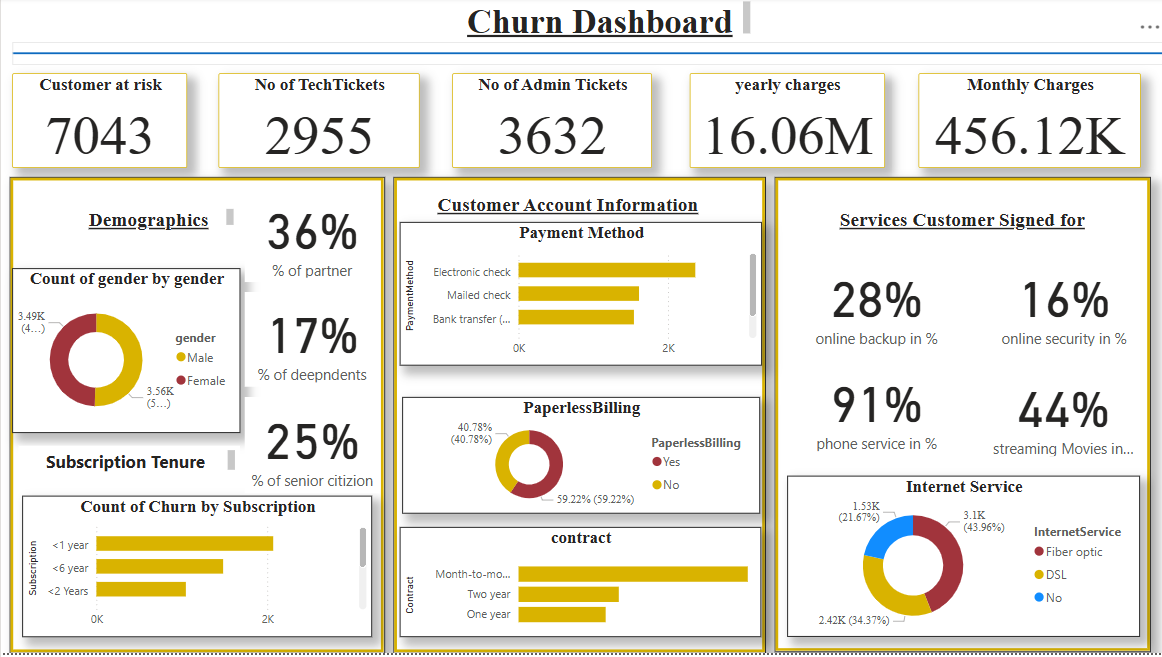

The dashboard page shown, as its layout file describes it:
{"tool":"powerbi","page":{"name":"Page 2","canvas":[1280,720],"ordinal":1},"visuals":[{"type":"textbox","box":[495.4,0,332.1,49.4],"z":0},{"type":"card","title":"Customer at risk","fields":{"Values":["Count(01 Churn-Dataset.customerID)"]},"box":[12.3,83.7,192.1,104.3],"z":1000},{"type":"card","title":"Monthly Charges","fields":{"Values":["Sum(01 Churn-Dataset.MonthlyCharges)"]},"box":[1007.2,83.7,244.3,104.3],"z":2000},{"type":"card","title":"yearly charges","fields":{"Values":["Sum(01 Churn-Dataset.TotalCharges)"]},"box":[756.1,83.7,214.1,104.3],"z":3000},{"type":"card","title":"No of Admin Tickets","fields":{"Values":["Sum(01 Churn-Dataset.numAdminTickets)"]},"box":[495.4,83.7,219.6,104.3],"z":4000},{"type":"card","title":"No of TechTickets","fields":{"Values":["Sum(01 Churn-Dataset.numTechTickets)"]},"box":[238.8,83.7,220.9,104.3],"z":5000},{"type":"shape","box":[9.6,197.6,411.7,522.8],"z":6000},{"type":"shape","box":[430.9,197.6,408.9,522.8],"z":7000},{"type":"shape","box":[849.4,197.6,413,521.4],"z":8000},{"type":"textbox","box":[71.4,227.8,189.4,37],"z":9000},{"type":"textbox","box":[469.3,211.3,306,35.7],"z":10000},{"type":"textbox","box":[879.6,227.9,351.3,37],"z":11000},{"type":"donutChart","fields":{"Category":["01 Churn-Dataset.gender"],"Y":["CountNonNull(01 Churn-Dataset.gender)"]},"box":[12,297.9,250,181.1],"z":12000},{"type":"textbox","box":[19.2,492.7,242.9,32.9],"z":13000},{"type":"barChart","fields":{"Category":["01 Churn-Dataset.Subscription"],"Y":["CountNonNull(01 Churn-Dataset.Churn)"]},"box":[23.3,547.5,384.2,155.1],"z":14000},{"type":"card","fields":{"Values":["01 Churn-Dataset.% of senior citizion"]},"box":[267.6,439.2,148.2,105.7],"z":15000},{"type":"card","fields":{"Values":["01 Churn-Dataset.% of partner"]},"box":[267.6,211.3,148.2,101.5],"z":16000},{"type":"card","fields":{"Values":["01 Churn-Dataset.% of deepndents"]},"box":[267.6,323.9,148.2,104.3],"z":17000},{"type":"barChart","title":" Payment Method","fields":{"Category":["01 Churn-Dataset.PaymentMethod"],"Y":["CountNonNull(01 Churn-Dataset.PaymentMethod)"]},"box":[437.7,247,397.9,157.8],"z":18000},{"type":"donutChart","title":" PaperlessBilling","fields":{"Category":["01 Churn-Dataset.PaperlessBilling"],"Y":["CountNonNull(01 Churn-Dataset.PaperlessBilling)"]},"box":[440.5,439.2,392.5,127.6],"z":19000},{"type":"barChart","title":"contract","fields":{"Category":["01 Churn-Dataset.Contract"],"Y":["CountNonNull(01 Churn-Dataset.Contract)"]},"box":[437.7,581.8,396.6,120.8],"z":20000},{"type":"donutChart","title":" Internet Service","fields":{"Category":["01 Churn-Dataset.InternetService"],"Y":["CountNonNull(01 Churn-Dataset.InternetService)"]},"box":[863.1,525.6,387,177],"z":21000},{"type":"card","fields":{"Values":["01 Churn-Dataset.online backup in %"]},"box":[871.4,284,179.8,104.3],"z":22000},{"type":"card","fields":{"Values":["01 Churn-Dataset.online security in %"]},"box":[1082.7,284,168.8,104.3],"z":23000},{"type":"card","fields":{"Values":["01 Churn-Dataset.phone service in %"]},"box":[871.4,399.3,179.8,104.3],"z":24000},{"type":"card","fields":{"Values":["01 Churn-Dataset.streaming Movies in %"]},"box":[1082.7,404.8,167.4,104.3],"z":25000},{"type":"shape","box":[12.3,49.4,1266.6,24.7],"z":26000}]}

Visuals, with their boxes in screenshot pixels (x1, y1, x2, y2), scaled from the page's 1280x720 canvas onto the 1162x657 screenshot:
textbox: <region>450, 0, 751, 45</region>
"Customer at risk" card: <region>11, 76, 186, 172</region>
"Monthly Charges" card: <region>914, 76, 1136, 172</region>
"yearly charges" card: <region>686, 76, 881, 172</region>
"No of Admin Tickets" card: <region>450, 76, 649, 172</region>
"No of TechTickets" card: <region>217, 76, 417, 172</region>
shape: <region>9, 180, 382, 656</region>
shape: <region>391, 180, 762, 656</region>
shape: <region>771, 180, 1146, 656</region>
textbox: <region>65, 208, 237, 242</region>
textbox: <region>426, 193, 704, 225</region>
textbox: <region>799, 208, 1117, 242</region>
donutChart - 01 Churn-Dataset.gender x CountNonNull(01 Churn-Dataset.gender): <region>11, 272, 238, 437</region>
textbox: <region>17, 450, 238, 480</region>
barChart - 01 Churn-Dataset.Subscription x CountNonNull(01 Churn-Dataset.Churn): <region>21, 500, 370, 641</region>
card - 01 Churn-Dataset.% of senior citizion: <region>243, 401, 377, 497</region>
card - 01 Churn-Dataset.% of partner: <region>243, 193, 377, 285</region>
card - 01 Churn-Dataset.% of deepndents: <region>243, 296, 377, 391</region>
" Payment Method" barChart: <region>397, 225, 759, 369</region>
" PaperlessBilling" donutChart: <region>400, 401, 756, 517</region>
"contract" barChart: <region>397, 531, 757, 641</region>
" Internet Service" donutChart: <region>784, 480, 1135, 641</region>
card - 01 Churn-Dataset.online backup in %: <region>791, 259, 954, 354</region>
card - 01 Churn-Dataset.online security in %: <region>983, 259, 1136, 354</region>
card - 01 Churn-Dataset.phone service in %: <region>791, 364, 954, 460</region>
card - 01 Churn-Dataset.streaming Movies in %: <region>983, 369, 1135, 465</region>
shape: <region>11, 45, 1161, 68</region>
